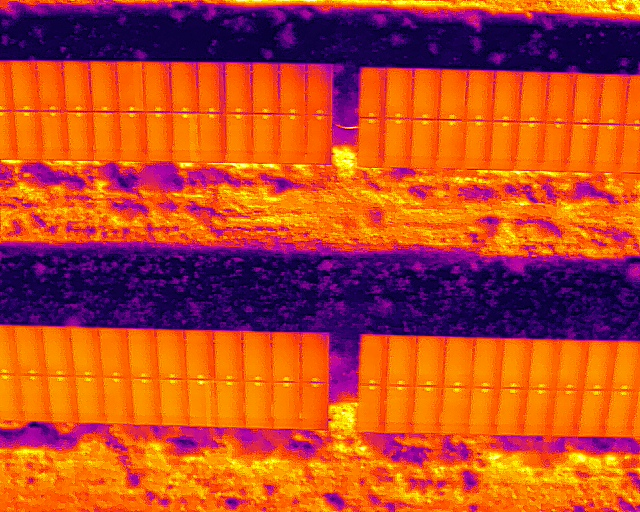photovoltaic_panels: (2, 322, 331, 434), (1, 58, 333, 167), (350, 329, 638, 440), (354, 64, 638, 176)
stripe_spot: (186, 380, 218, 427), (170, 112, 199, 162)
